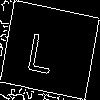L: (25, 24, 59, 74)
